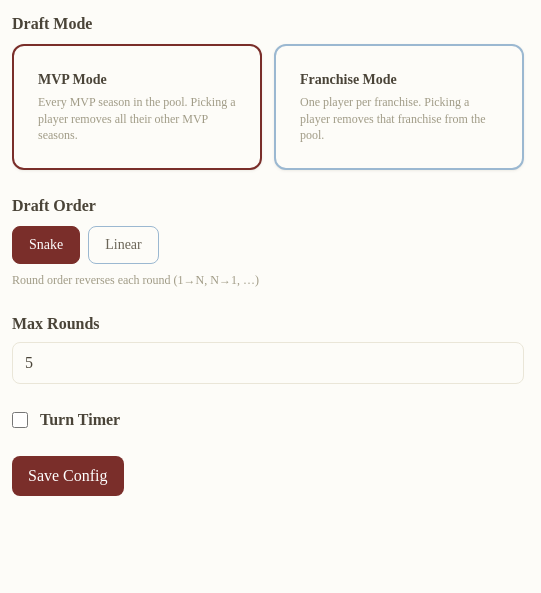
DraftConfigPanel › turn timer toggle › reveals the turn duration input when the timer is enabled
Click the checkbox labelled "Turn Timer" at (20, 420), box x1=12 y1=412 x2=28 y2=428
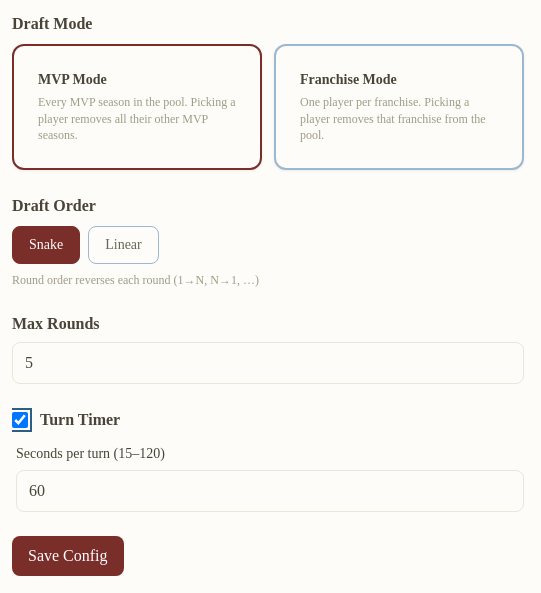
Expected: the number field labelled "Seconds per turn (15–120)" is shown, x1=16 y1=470 x2=524 y2=512
